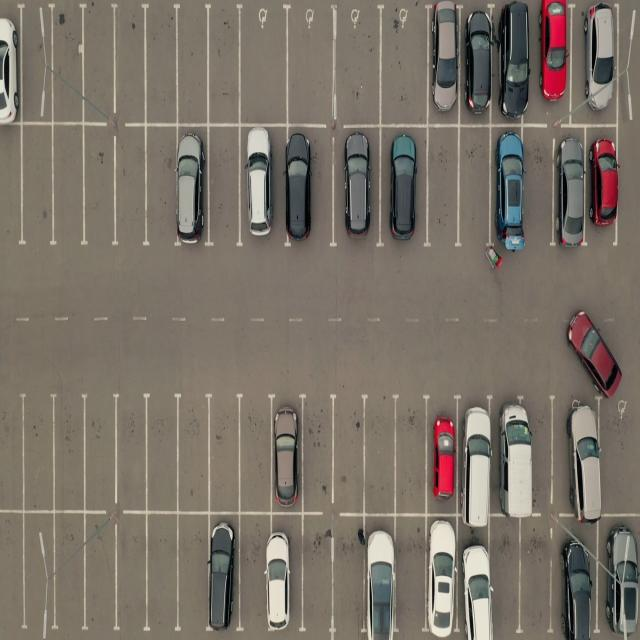space-empty: (238, 6, 290, 126), (378, 5, 427, 126), (288, 10, 338, 125), (332, 8, 380, 126), (46, 514, 88, 632), (47, 4, 87, 123), (16, 127, 54, 250), (50, 128, 88, 249), (177, 3, 214, 126), (79, 398, 118, 514), (601, 397, 640, 513), (143, 3, 180, 125), (78, 126, 115, 248), (80, 514, 118, 632), (206, 4, 243, 125), (114, 3, 151, 123), (333, 516, 370, 636), (144, 395, 182, 511), (176, 398, 214, 514), (113, 397, 151, 513), (205, 129, 242, 248), (78, 3, 115, 122), (458, 128, 494, 249), (142, 129, 178, 248), (51, 398, 88, 513), (17, 398, 54, 513), (239, 395, 276, 510), (114, 514, 150, 632), (113, 130, 149, 248), (18, 513, 54, 631), (143, 515, 179, 632), (331, 396, 368, 509), (205, 395, 241, 510), (520, 520, 556, 635), (394, 516, 428, 637), (360, 398, 396, 512), (298, 396, 334, 510), (424, 125, 458, 244), (394, 397, 429, 512), (178, 514, 212, 632), (302, 516, 336, 634), (16, 4, 50, 121), (488, 517, 521, 636), (525, 126, 557, 246), (237, 514, 269, 633), (0, 512, 25, 633), (0, 389, 25, 509), (0, 128, 23, 250)
space-occupied: (283, 128, 332, 248), (554, 393, 599, 517), (382, 124, 429, 242), (240, 128, 286, 248), (492, 396, 536, 519), (573, 0, 618, 120), (334, 129, 379, 247), (489, 127, 530, 250), (552, 527, 596, 638), (459, 394, 498, 515), (534, 0, 572, 120), (603, 520, 640, 637), (266, 514, 302, 634), (426, 7, 462, 126), (494, 4, 530, 123), (424, 516, 459, 637), (460, 516, 494, 639), (424, 396, 459, 514), (177, 129, 211, 249), (270, 395, 305, 510), (554, 130, 588, 246), (363, 515, 395, 637), (464, 9, 496, 125), (208, 514, 238, 632), (585, 127, 616, 239), (0, 5, 21, 124)
